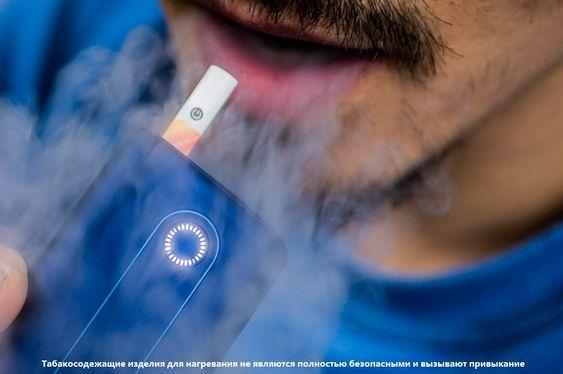iqos: (0, 65, 285, 373)
